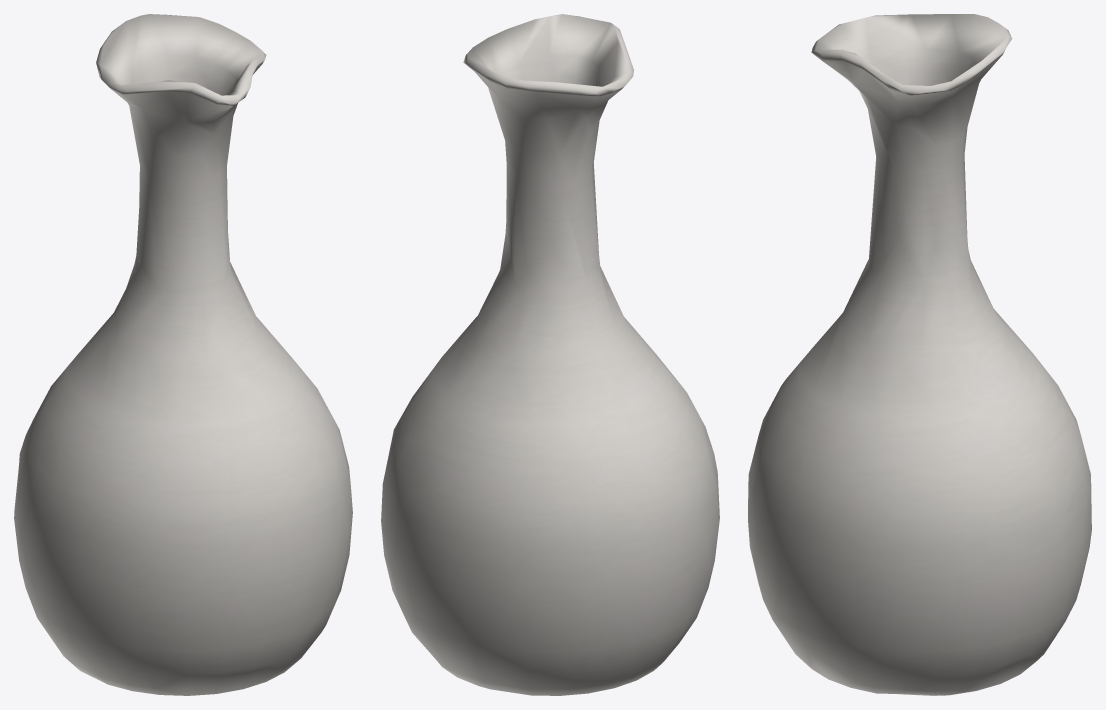
File: ceramic_vase_01.glb
3 renders of one model, left to right at view 1: azimuth 30°, elevation 25°; view 2: azimuth 150°, elevation 25°; view 3: azimuth 270°, elevation 25°, orthographic. The views are drawn at different scales.
Parts seen in each view (by area): view 1: ceramic_vase_01; view 2: ceramic_vase_01; view 3: ceramic_vase_01.
Part boxes in pixels (<box>): ceramic_vase_01: <box>14,14,352,695</box>; ceramic_vase_01: <box>381,14,719,695</box>; ceramic_vase_01: <box>748,14,1091,695</box>.
Size of the model in its own units: 0.2022 by 0.4003 by 0.2024.
1 material, 1 textured.
